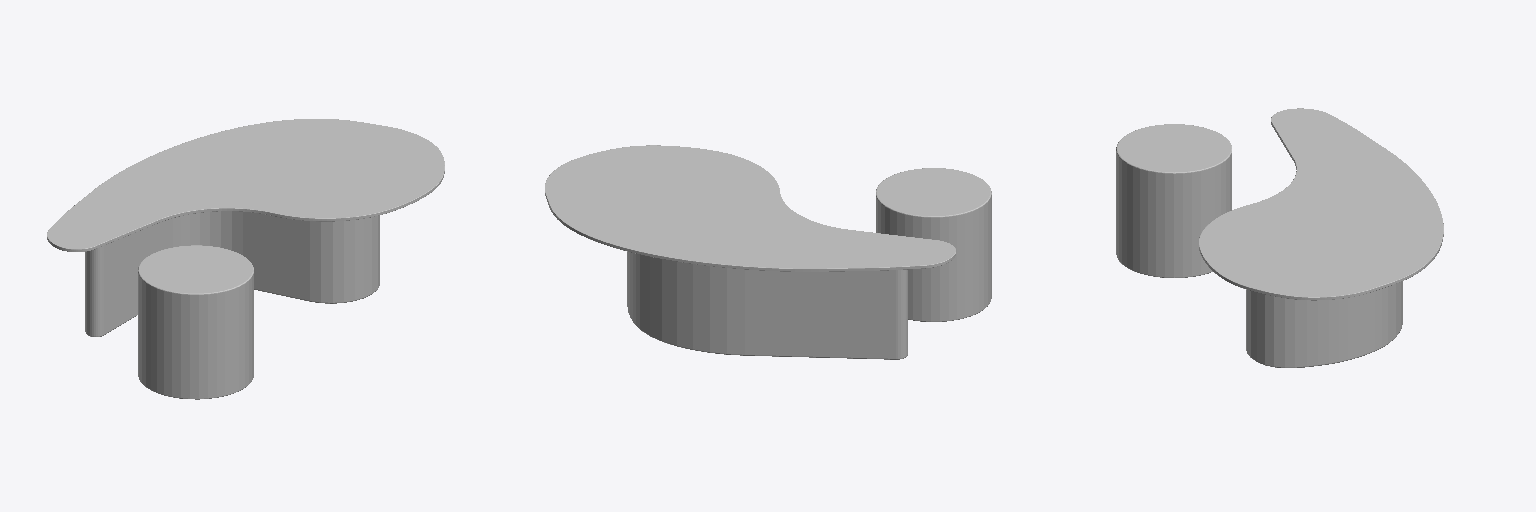
The model's file is Table 135.obj.
3 views of the same model, side by side, from view 1: azimuth 30°, elevation 25°; view 2: azimuth 150°, elevation 25°; view 3: azimuth 270°, elevation 25° (orthographic).
Visible parts, largest first — view 1: Table_135_00, Table_135_01; view 2: Table_135_00, Table_135_01; view 3: Table_135_00, Table_135_01.
Boxes of the visible parts, x1,y1,x2,y2 form: Table_135_00: [47, 119, 444, 336]; Table_135_01: [138, 245, 253, 399]; Table_135_00: [545, 145, 955, 359]; Table_135_01: [876, 168, 991, 321]; Table_135_00: [1199, 108, 1443, 367]; Table_135_01: [1116, 124, 1231, 277].
Bounding box in the file's own units: 172 × 45.2 × 126.